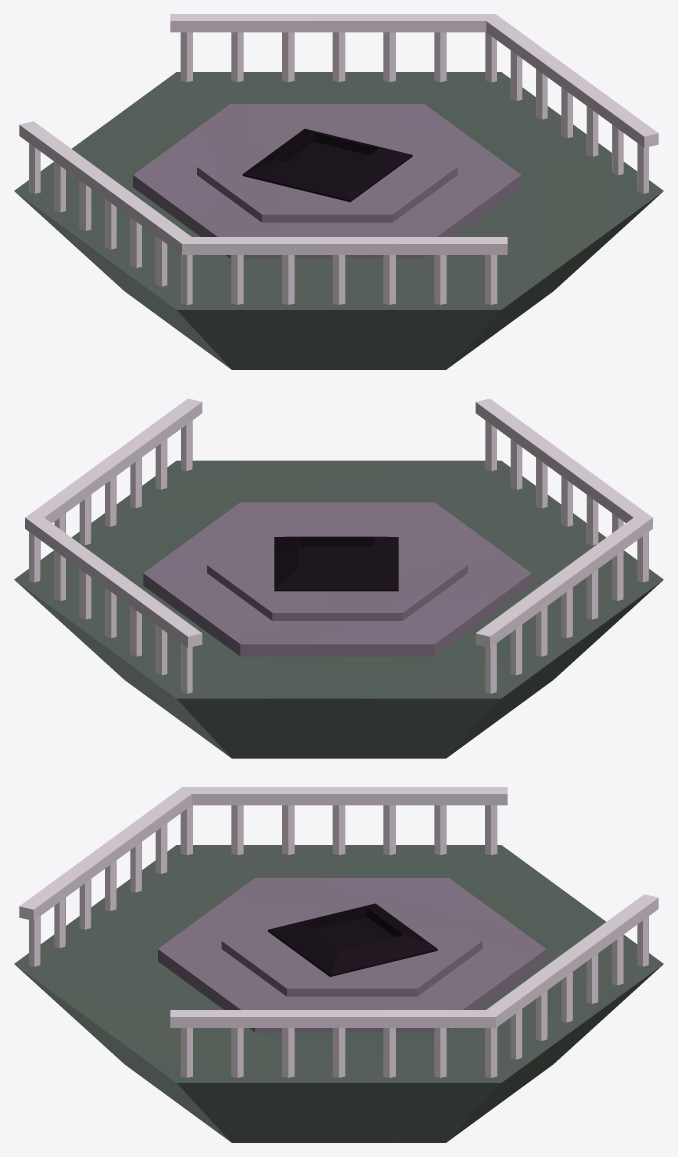
Rendered from lvl1_isle_P_switch2.glb.
The picture shows the model from 3 angles, top to bottom: view 1: azimuth 30°, elevation 25°; view 2: azimuth 150°, elevation 25°; view 3: azimuth 270°, elevation 25°; orthographic projection.
Visible parts, largest first — view 1: lvl1_isl_P_switch2; view 2: lvl1_isl_P_switch2; view 3: lvl1_isl_P_switch2.
Boxes of the visible parts, bbox=[...] form: lvl1_isl_P_switch2: bbox=[14, 14, 663, 369]; lvl1_isl_P_switch2: bbox=[14, 398, 663, 758]; lvl1_isl_P_switch2: bbox=[14, 787, 663, 1142].
Size of the model in its own units: 6.79 by 2.16 by 7.84.
1 material, 1 textured.
